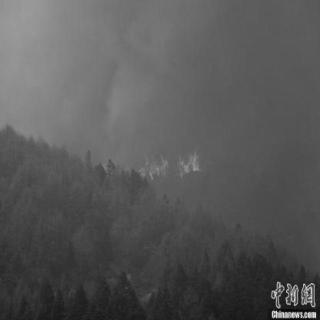Fire: (128, 151, 170, 177)
Smoke: (188, 18, 290, 144)
